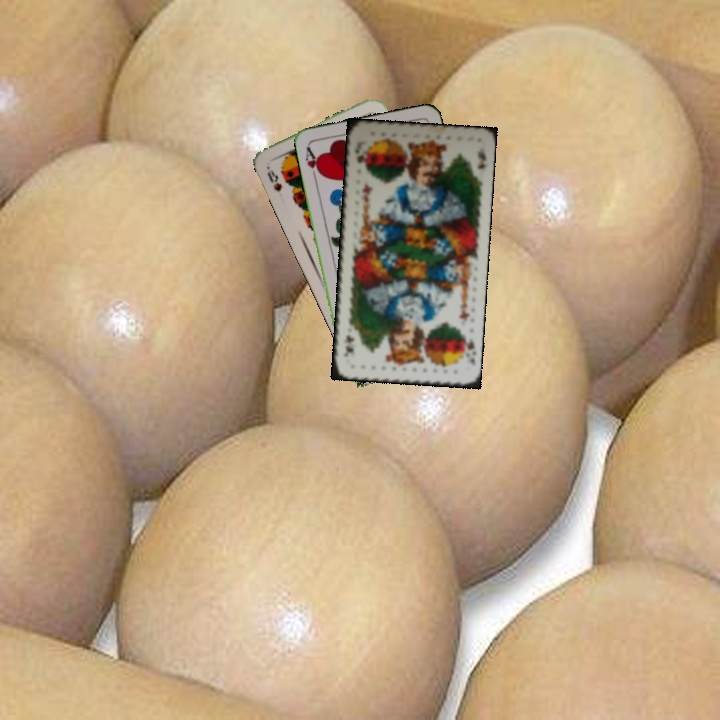HA: (301, 143, 324, 182)
S8: (262, 162, 285, 194)
SK: (350, 146, 369, 173), (459, 331, 478, 357)
